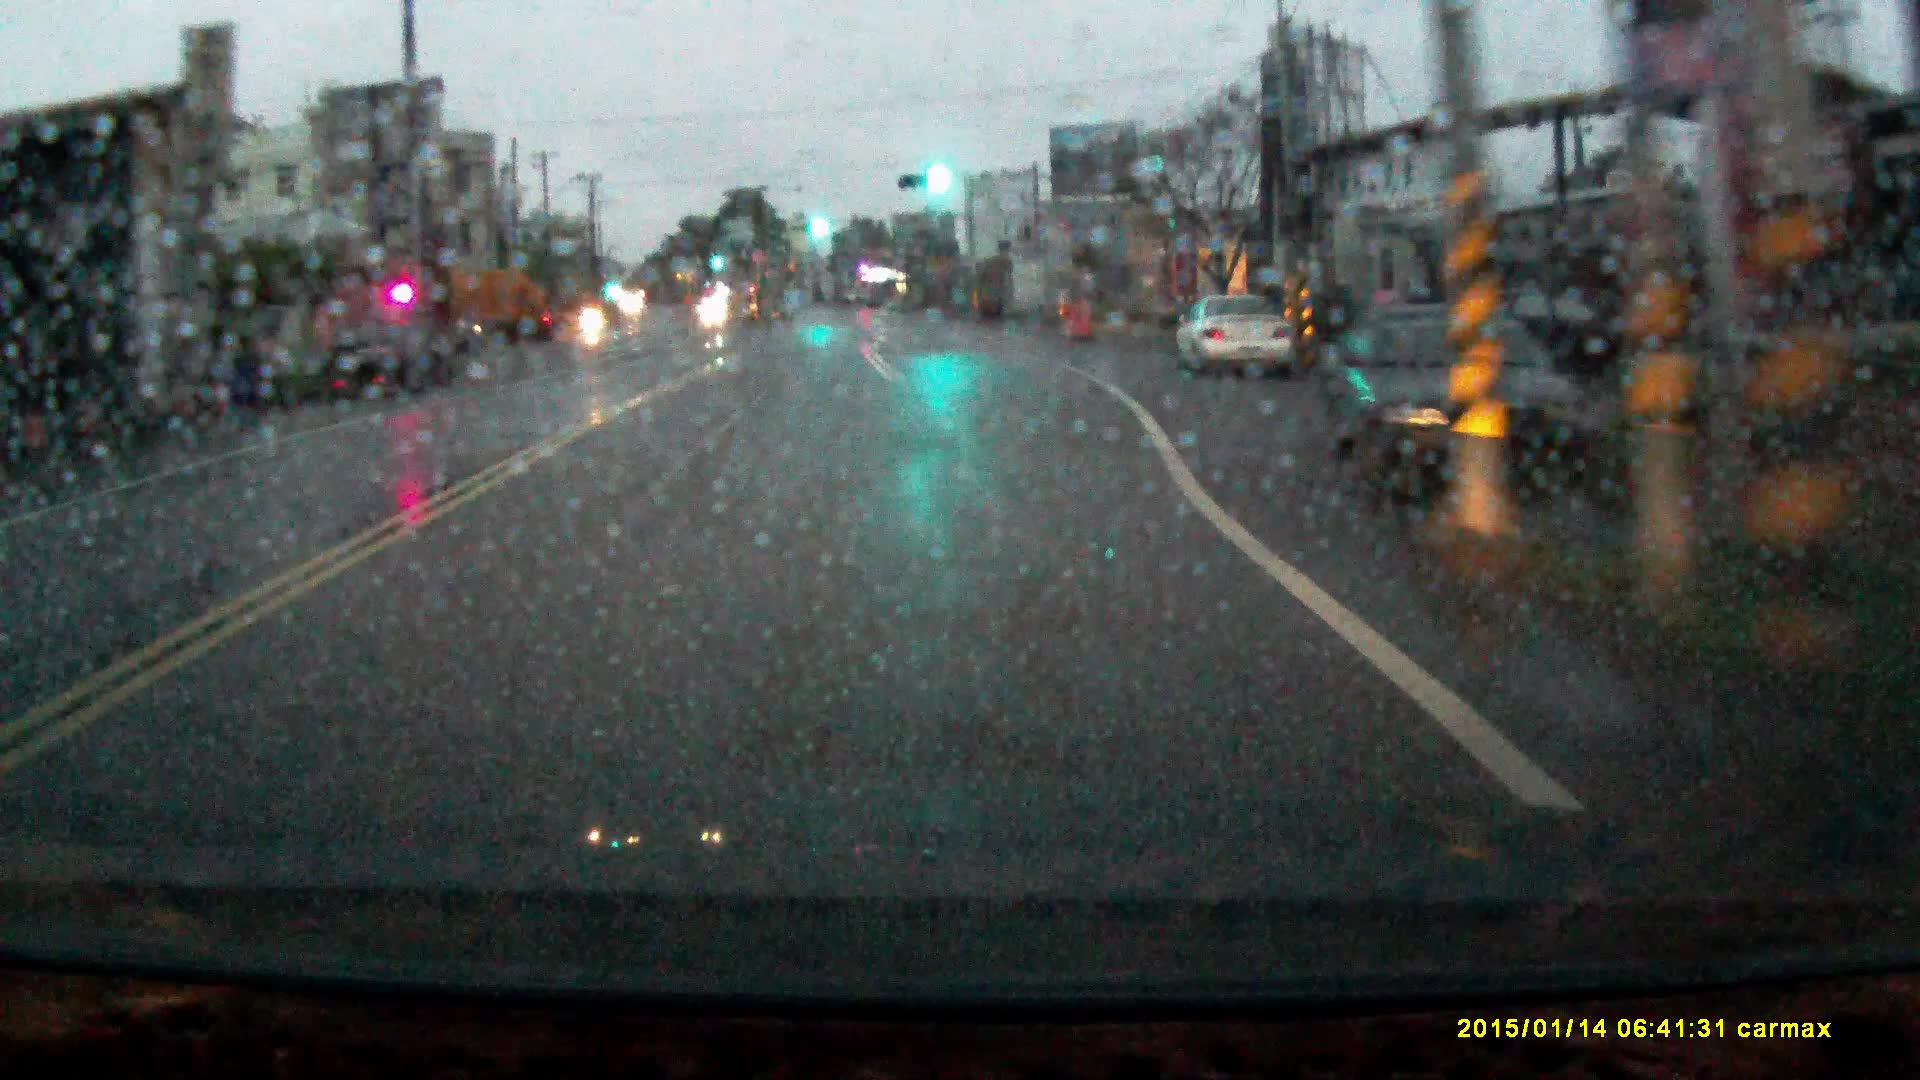rider: (574, 297, 609, 356)
vehicle: (1318, 318, 1595, 498), (1169, 288, 1294, 373), (443, 264, 556, 345), (322, 318, 444, 390), (699, 296, 728, 319)
